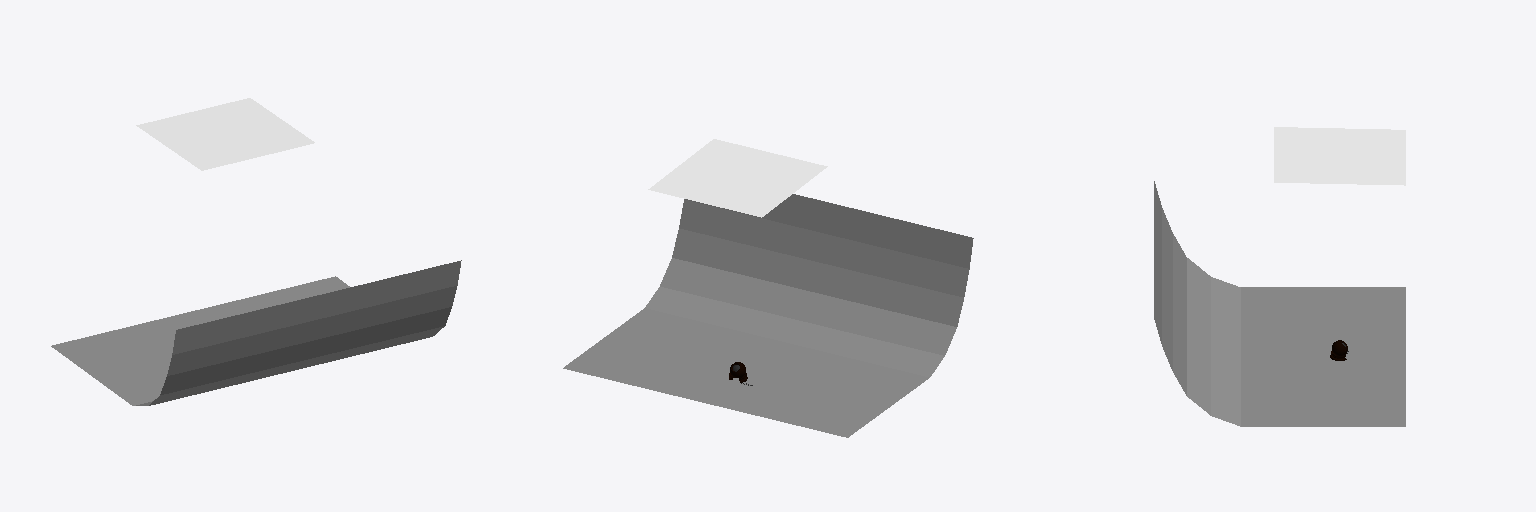
The picture shows the model from 3 angles: view 1: azimuth 30°, elevation 25°; view 2: azimuth 150°, elevation 25°; view 3: azimuth 270°, elevation 25°; orthographic projection.
Visible parts, largest first — view 1: BackGroundMat, Material; view 2: BackGroundMat, Material; view 3: BackGroundMat, Material.
Part boxes in pixels (x1,y1,x2,y2): BackGroundMat: (51, 260, 461, 405); Material: (136, 98, 314, 170); BackGroundMat: (563, 194, 973, 437); Material: (648, 139, 827, 217); BackGroundMat: (1154, 181, 1405, 426); Material: (1274, 127, 1405, 185).
Bounding box in the file's own units: 18.75 × 12.69 × 14.32.